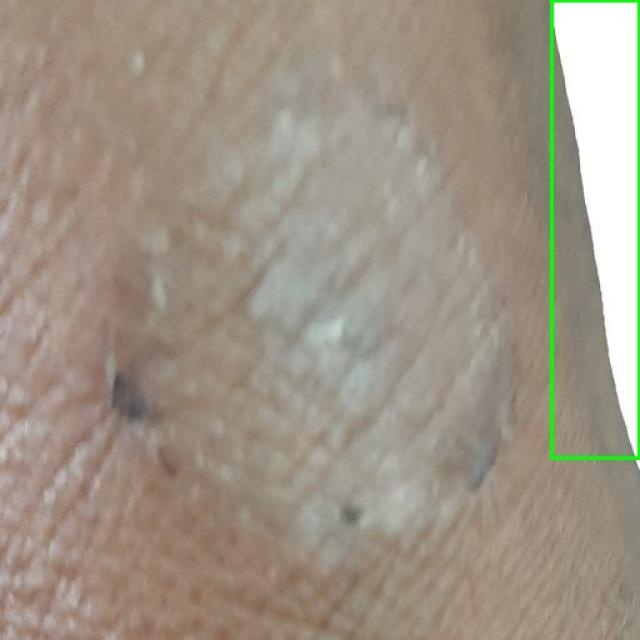Tinea Corporis: (551, 0, 639, 458)
